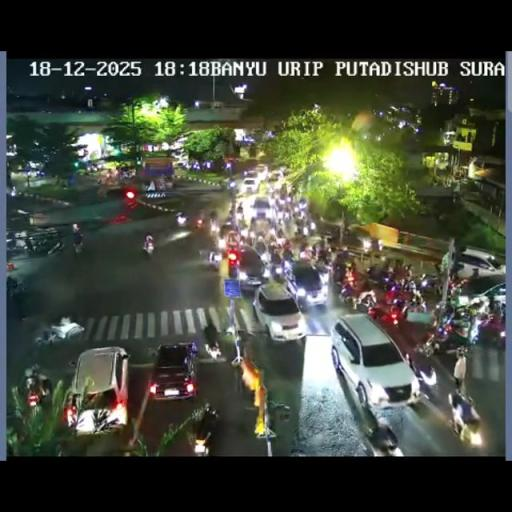Car: (332, 312, 419, 407), (66, 347, 130, 437), (252, 282, 306, 344), (148, 342, 199, 401), (222, 245, 266, 290), (449, 248, 504, 282), (243, 194, 273, 225), (242, 177, 260, 193), (253, 164, 269, 178), (268, 168, 283, 182), (174, 159, 189, 168)
Motorcycle: (448, 386, 482, 443), (376, 282, 422, 323), (406, 348, 436, 398), (475, 302, 505, 348), (368, 420, 402, 455), (239, 334, 261, 378), (24, 372, 50, 407), (415, 326, 443, 358), (338, 278, 362, 309), (204, 317, 222, 356), (465, 313, 480, 355), (418, 271, 444, 295), (366, 262, 392, 286), (63, 393, 80, 429), (268, 235, 293, 259), (266, 256, 289, 282), (444, 275, 466, 297), (390, 262, 412, 284), (332, 260, 350, 286), (438, 304, 456, 330), (34, 328, 60, 346), (361, 235, 384, 253), (198, 245, 215, 268), (314, 248, 334, 266), (6, 274, 24, 294), (282, 216, 297, 238), (46, 238, 64, 256), (72, 236, 85, 259), (6, 230, 20, 250), (24, 234, 38, 254), (294, 209, 308, 227), (142, 240, 154, 260), (243, 229, 255, 246), (198, 209, 208, 229), (274, 206, 284, 226), (256, 234, 266, 254), (209, 217, 220, 235), (67, 358, 78, 376), (299, 247, 312, 261), (175, 212, 188, 226), (304, 219, 316, 234), (260, 250, 271, 266), (235, 208, 245, 225), (266, 182, 278, 196), (322, 229, 334, 241), (276, 227, 286, 241), (470, 267, 480, 281), (227, 182, 235, 198), (434, 262, 442, 276), (278, 184, 286, 198), (6, 186, 17, 196), (214, 178, 222, 191), (118, 174, 126, 184), (96, 177, 103, 185)
